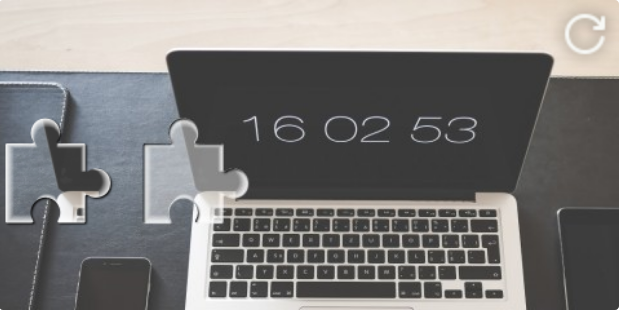target: (144, 119, 250, 224)
